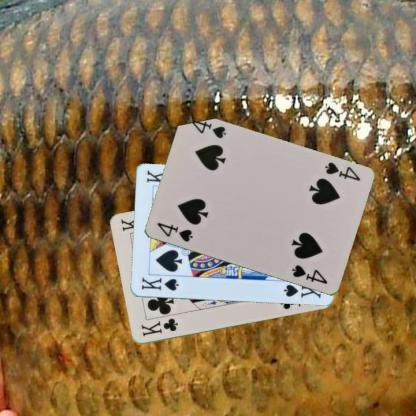4s: (154, 219, 194, 244), (322, 160, 361, 182)
Kc: (138, 315, 179, 338)
Ks: (138, 275, 180, 292)
